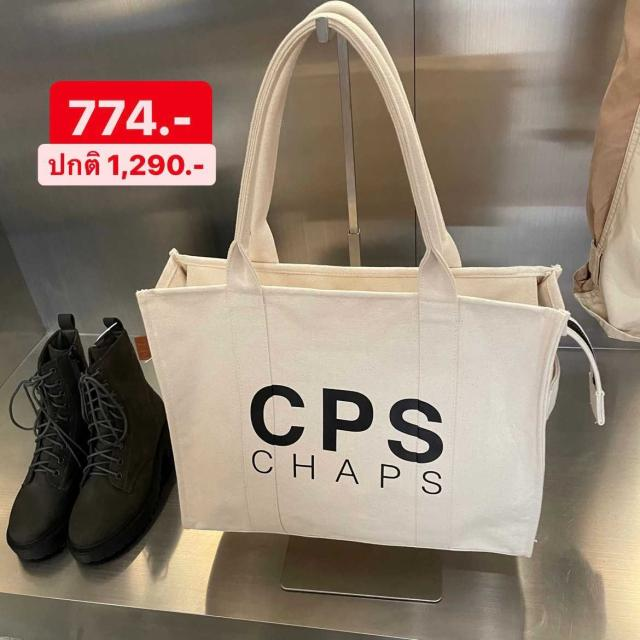Handbag: (119, 243, 602, 575)
